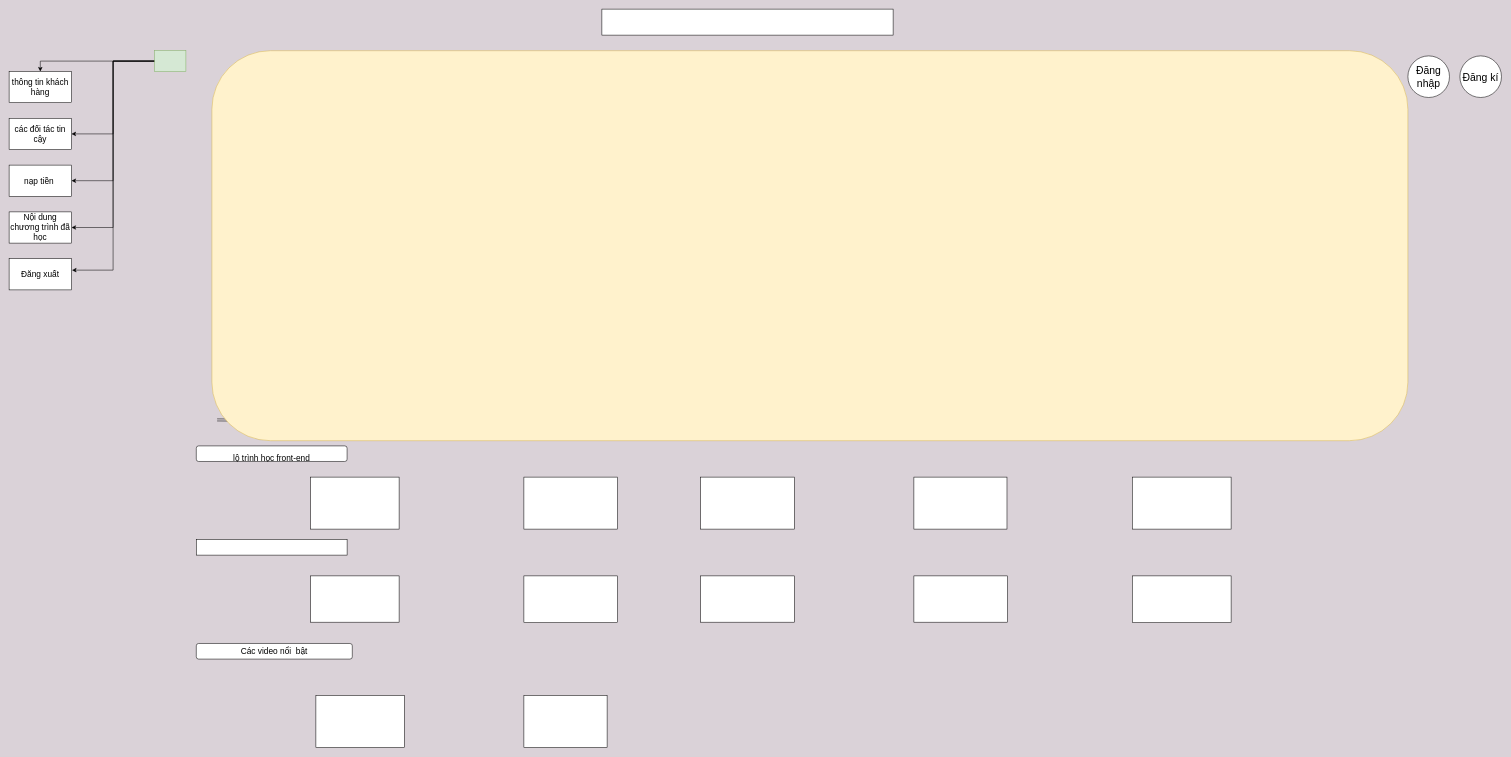
The diagram is 1511 pixels wide and 757 high, and some of its shapes have lost their labels. The centre of each missing label's shape, as x and y in pixels:
Giao diện trang web: point (747, 22)
Lộ trình học back-end: point (271, 547)
menu: point (170, 61)
Ảnh đại diện trang: point (809, 245)
